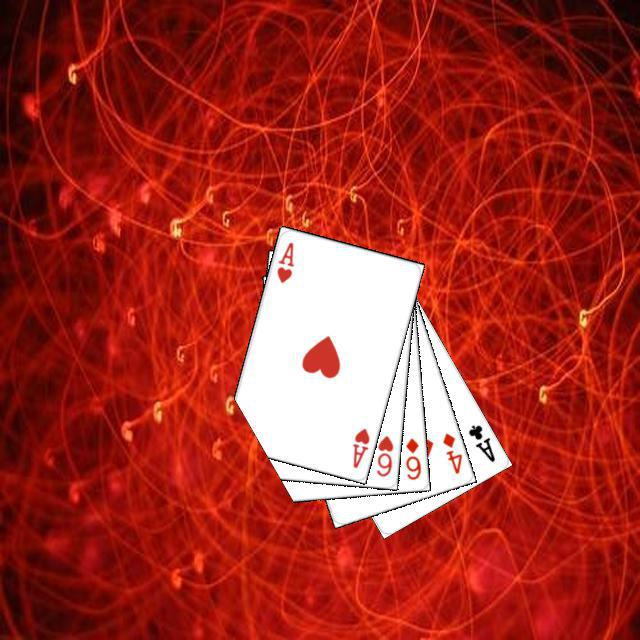4d: (438, 428, 464, 476)
6d: (401, 433, 423, 481)
6h: (372, 431, 395, 478)
Ac: (463, 420, 497, 464)
Ah: (272, 237, 295, 285), (348, 423, 371, 470)
